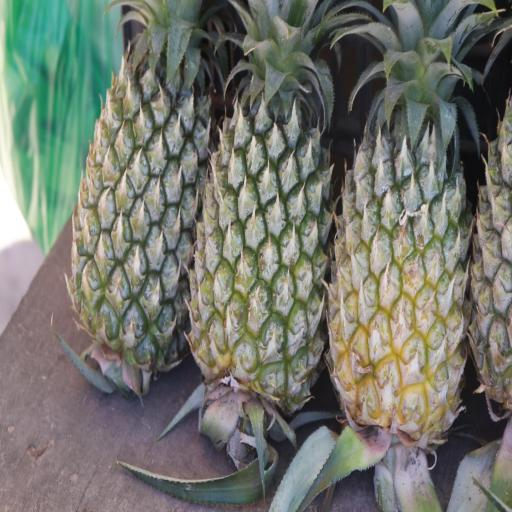------------------------------: (322, 0, 471, 461)
